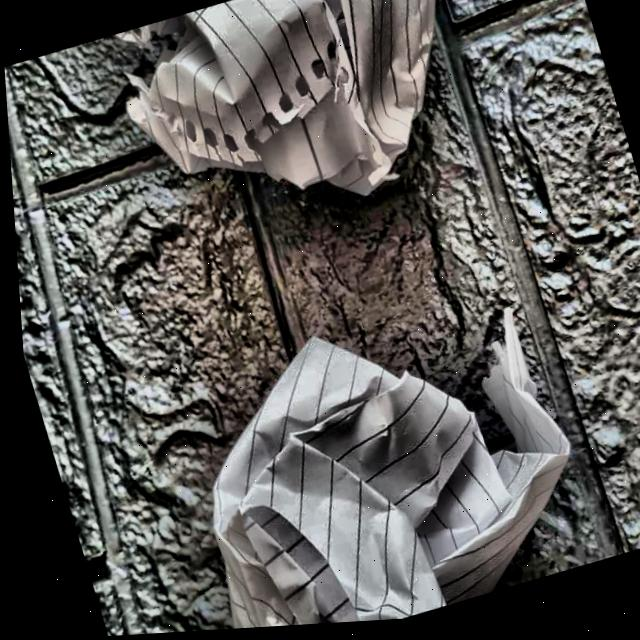paper: (137, 308, 587, 634), (93, 0, 523, 252)
